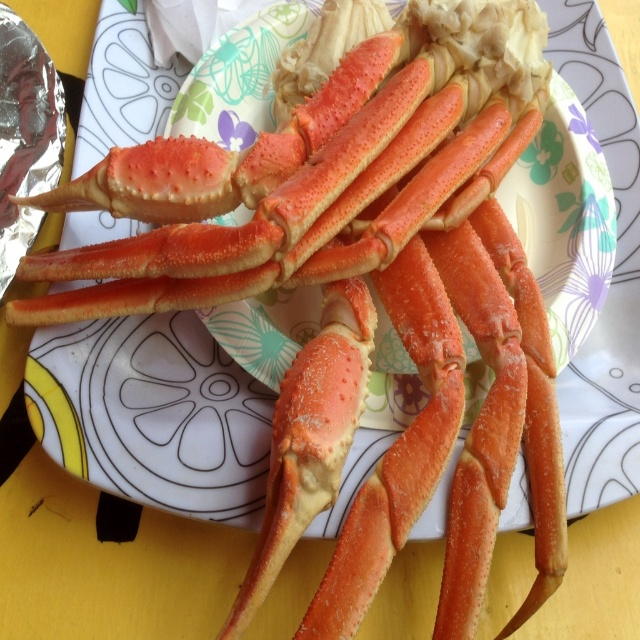Crab: (6, 0, 568, 639)
